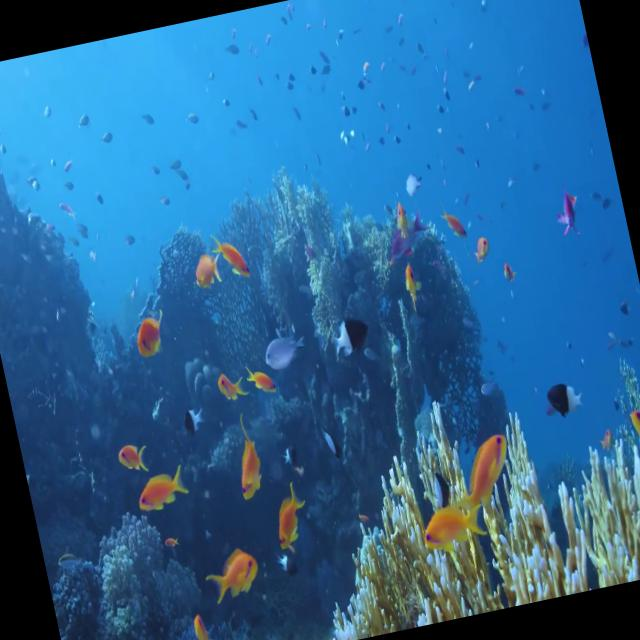fish: (197, 527, 269, 612), (458, 424, 521, 521), (414, 489, 492, 556), (219, 409, 270, 505), (263, 476, 316, 566), (534, 358, 593, 422), (319, 304, 377, 368), (208, 222, 261, 286), (128, 458, 190, 512), (260, 319, 314, 377), (544, 185, 590, 253), (184, 236, 230, 298), (127, 306, 174, 366), (384, 189, 424, 257), (395, 256, 430, 326), (211, 350, 250, 408), (183, 593, 225, 640), (110, 426, 150, 474), (240, 356, 276, 403), (466, 224, 500, 272), (441, 207, 474, 250), (625, 405, 640, 490), (176, 404, 208, 439), (497, 252, 522, 292)
